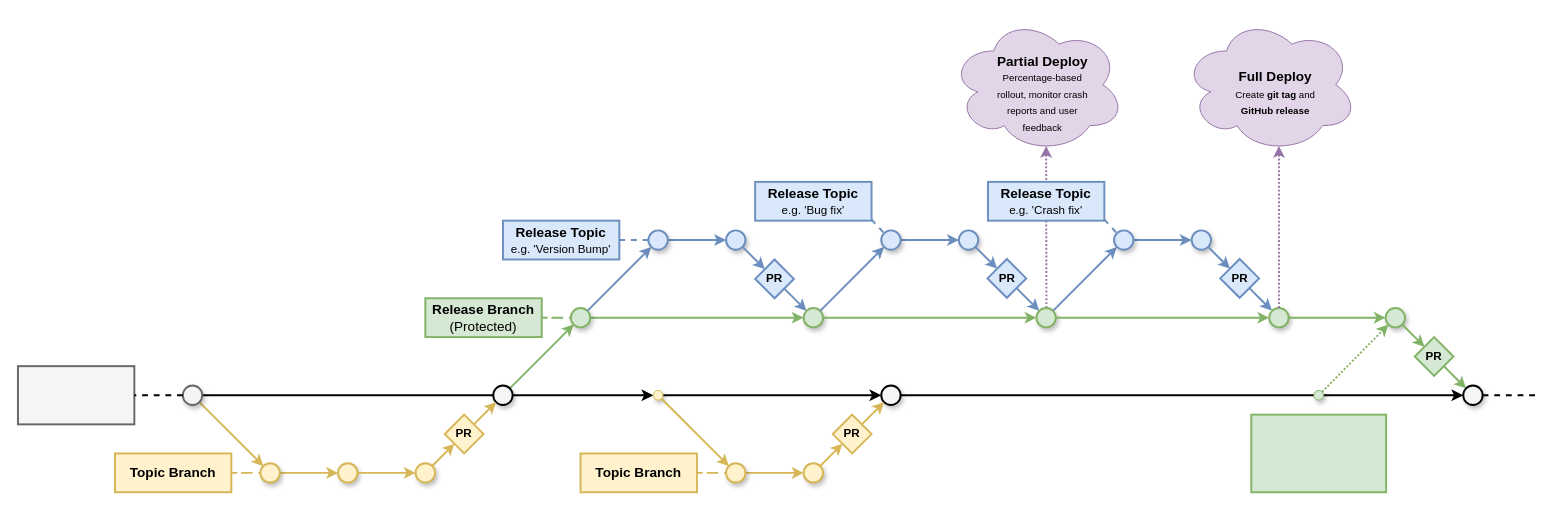
Image size: 1559x510. Some labels were removed from this diagram. The shapes that lost their labels are listed below. From the top down, each one's centre as x and y in pixels, then its label:
the point at 75,395: MASTER (Protected)
the point at 1318,453: Remove branch protection and merge in master (if necessary)
